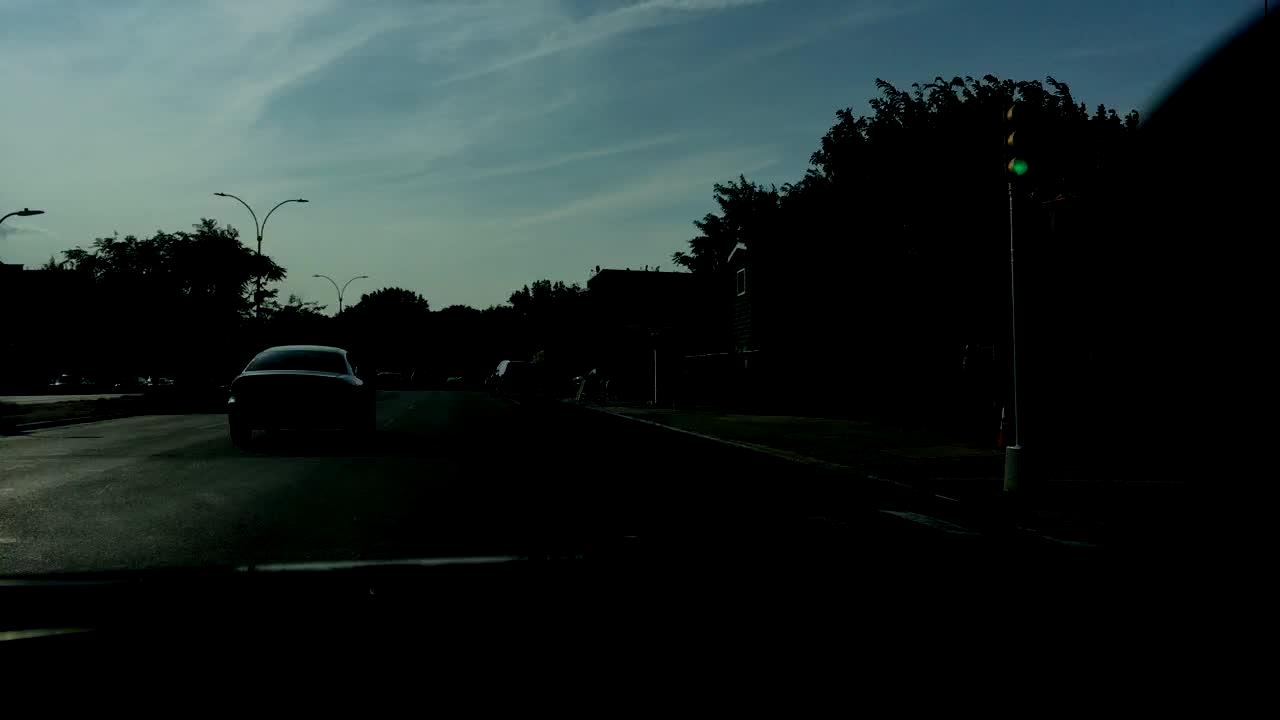Chrysler: (265, 371, 313, 388)
